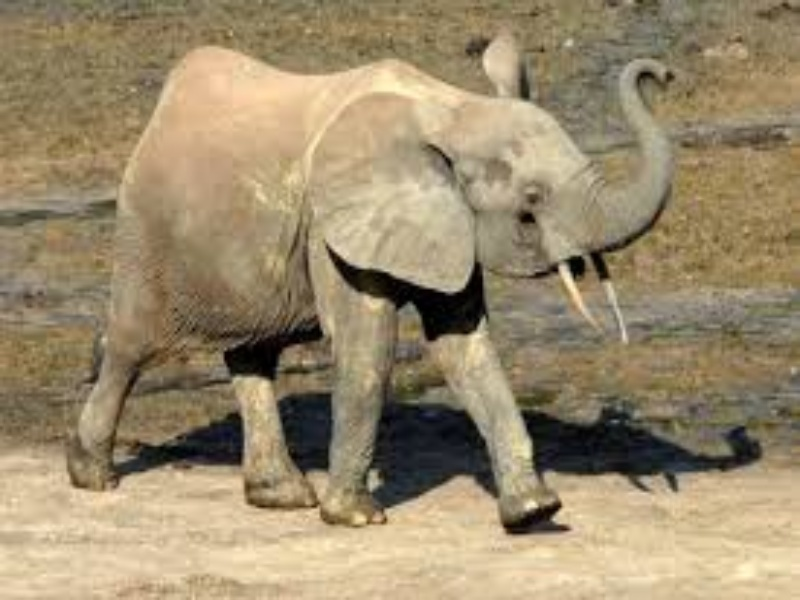elephant: (25, 18, 688, 536)
